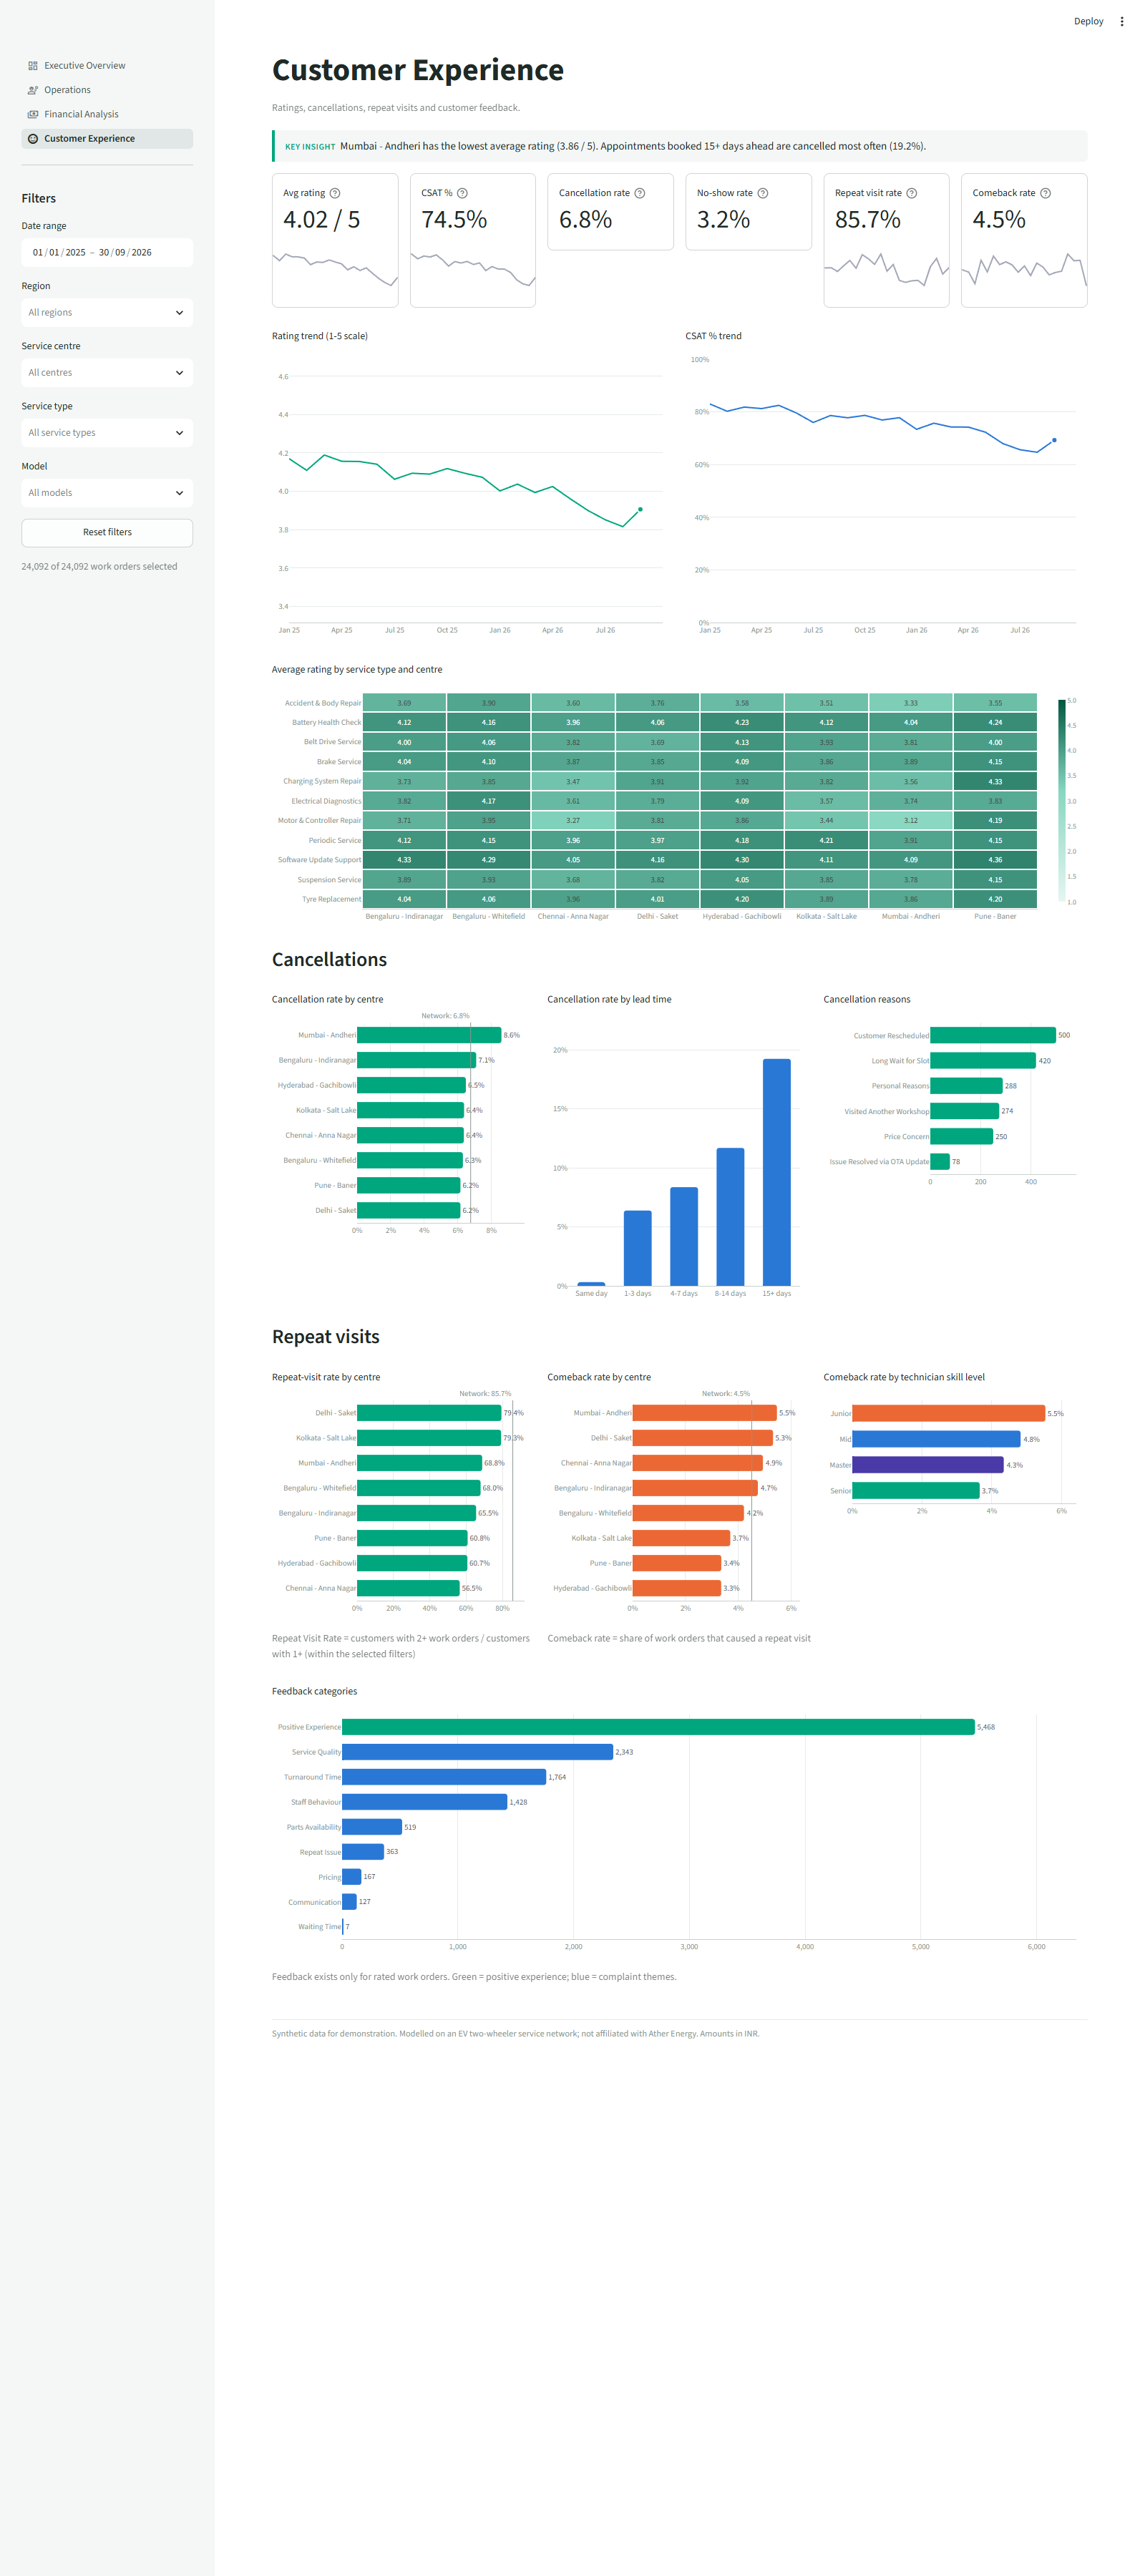

The dashboard page shown, as its layout file describes it:
{"tool":"powerbi","page":{"name":"Customer Experience","canvas":[1280,1260],"ordinal":3},"visuals":[{"type":"textbox","box":[216,8,700,40],"z":0},{"type":"card","fields":{"Values":["_Measures.Selection Label"]},"box":[860,12,396,34],"z":1000},{"type":"card","fields":{"Values":["_Measures.Key Insight - Customer"]},"box":[216,52,1040,52],"z":2000},{"type":"textbox","box":[24,14,180,30],"z":3000},{"type":"slicer","fields":{"Values":["DimDate.date"]},"box":[24,52,176,90],"z":4000},{"type":"slicer","fields":{"Values":["DimCentre.region"]},"box":[24,150,176,60],"z":5000},{"type":"slicer","fields":{"Values":["DimCentre.center_name"]},"box":[24,218,176,60],"z":6000},{"type":"slicer","fields":{"Values":["DimServiceType.service_type"]},"box":[24,286,176,60],"z":7000},{"type":"slicer","fields":{"Values":["DimModel.model"]},"box":[24,354,176,60],"z":8000},{"type":"textbox","box":[24,1230,1232,28],"z":9000},{"type":"card","fields":{"Values":["_Measures.Avg Rating"]},"box":[216,112,166,72],"z":10000},{"type":"card","fields":{"Values":["_Measures.CSAT %"]},"box":[390,112,166,72],"z":11000},{"type":"card","fields":{"Values":["_Measures.Cancellation Rate"]},"box":[564,112,166,72],"z":12000},{"type":"card","fields":{"Values":["_Measures.No-Show Rate"]},"box":[738,112,166,72],"z":13000},{"type":"card","fields":{"Values":["_Measures.Repeat Visit Rate"]},"box":[912,112,166,72],"z":14000},{"type":"card","fields":{"Values":["_Measures.Comeback Rate"]},"box":[1086,112,166,72],"z":15000},{"type":"lineChart","title":"Average rating by month (1-5)","fields":{"Category":["DimDate.Month Label"],"Y":["_Measures.Avg Rating"]},"box":[216,192,516,200],"z":16000},{"type":"lineChart","title":"CSAT % by month","fields":{"Category":["DimDate.Month Label"],"Y":["_Measures.CSAT %"]},"box":[740,192,516,200],"z":17000},{"type":"pivotTable","title":"Average rating by service type and centre","fields":{"Columns":["DimCentre.center_name"],"Rows":["DimServiceType.service_type"],"Values":["_Measures.Avg Rating"]},"box":[216,400,1040,236],"z":18000},{"type":"clusteredBarChart","title":"Cancellation rate by centre","fields":{"Category":["DimCentre.center_name"],"Y":["_Measures.Cancellation Rate"]},"box":[216,644,330,176],"z":19000},{"type":"clusteredColumnChart","title":"Cancellation rate by booking lead time","fields":{"Category":["fact_appointments.lead_time_band"],"Y":["_Measures.Cancellation Rate"]},"box":[554,644,330,176],"z":20000},{"type":"clusteredBarChart","title":"Cancellation reasons (appointments)","fields":{"Category":["fact_appointments.cancellation_reason"],"Y":["_Measures.Cancelled Appointments"]},"box":[892,644,364,176],"z":21000},{"type":"clusteredBarChart","title":"Repeat visit rate by centre","fields":{"Category":["DimCentre.center_name"],"Y":["_Measures.Repeat Visit Rate"]},"box":[216,828,330,210],"z":22000},{"type":"clusteredBarChart","title":"Comeback (30-day rework) rate by centre","fields":{"Category":["DimCentre.center_name"],"Y":["_Measures.Comeback Rate"]},"box":[554,828,330,210],"z":23000},{"type":"clusteredBarChart","title":"Comeback rate by technician skill level","fields":{"Category":["DimTechnician.skill_level"],"Y":["_Measures.Comeback Rate"]},"box":[892,828,364,210],"z":24000},{"type":"clusteredBarChart","title":"Feedback categories (rated work orders)","fields":{"Category":["fact_service.feedback_category"],"Y":["_Measures.Rated Services"]},"box":[216,1046,1040,180],"z":25000}]}

Visuals, with their boxes on the page's 1280x1260 design canvas (x1, y1, x2, y2). These are canvas units, not pixel positions in the 1145x2576 screenshot, which may show the page scaled, cropped or inside an application window:
textbox: x1=216 y1=8 x2=916 y2=48
card - _Measures.Selection Label: x1=860 y1=12 x2=1256 y2=46
card - _Measures.Key Insight - Customer: x1=216 y1=52 x2=1256 y2=104
textbox: x1=24 y1=14 x2=204 y2=44
slicer - DimDate.date: x1=24 y1=52 x2=200 y2=142
slicer - DimCentre.region: x1=24 y1=150 x2=200 y2=210
slicer - DimCentre.center_name: x1=24 y1=218 x2=200 y2=278
slicer - DimServiceType.service_type: x1=24 y1=286 x2=200 y2=346
slicer - DimModel.model: x1=24 y1=354 x2=200 y2=414
textbox: x1=24 y1=1230 x2=1256 y2=1258
card - _Measures.Avg Rating: x1=216 y1=112 x2=382 y2=184
card - _Measures.CSAT %: x1=390 y1=112 x2=556 y2=184
card - _Measures.Cancellation Rate: x1=564 y1=112 x2=730 y2=184
card - _Measures.No-Show Rate: x1=738 y1=112 x2=904 y2=184
card - _Measures.Repeat Visit Rate: x1=912 y1=112 x2=1078 y2=184
card - _Measures.Comeback Rate: x1=1086 y1=112 x2=1252 y2=184
"Average rating by month (1-5)" lineChart: x1=216 y1=192 x2=732 y2=392
"CSAT % by month" lineChart: x1=740 y1=192 x2=1256 y2=392
"Average rating by service type and centre" pivotTable: x1=216 y1=400 x2=1256 y2=636
"Cancellation rate by centre" clusteredBarChart: x1=216 y1=644 x2=546 y2=820
"Cancellation rate by booking lead time" clusteredColumnChart: x1=554 y1=644 x2=884 y2=820
"Cancellation reasons (appointments)" clusteredBarChart: x1=892 y1=644 x2=1256 y2=820
"Repeat visit rate by centre" clusteredBarChart: x1=216 y1=828 x2=546 y2=1038
"Comeback (30-day rework) rate by centre" clusteredBarChart: x1=554 y1=828 x2=884 y2=1038
"Comeback rate by technician skill level" clusteredBarChart: x1=892 y1=828 x2=1256 y2=1038
"Feedback categories (rated work orders)" clusteredBarChart: x1=216 y1=1046 x2=1256 y2=1226
